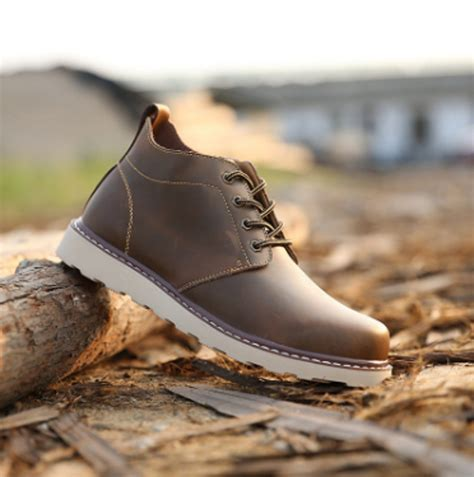cuero: (73, 103, 390, 370)
